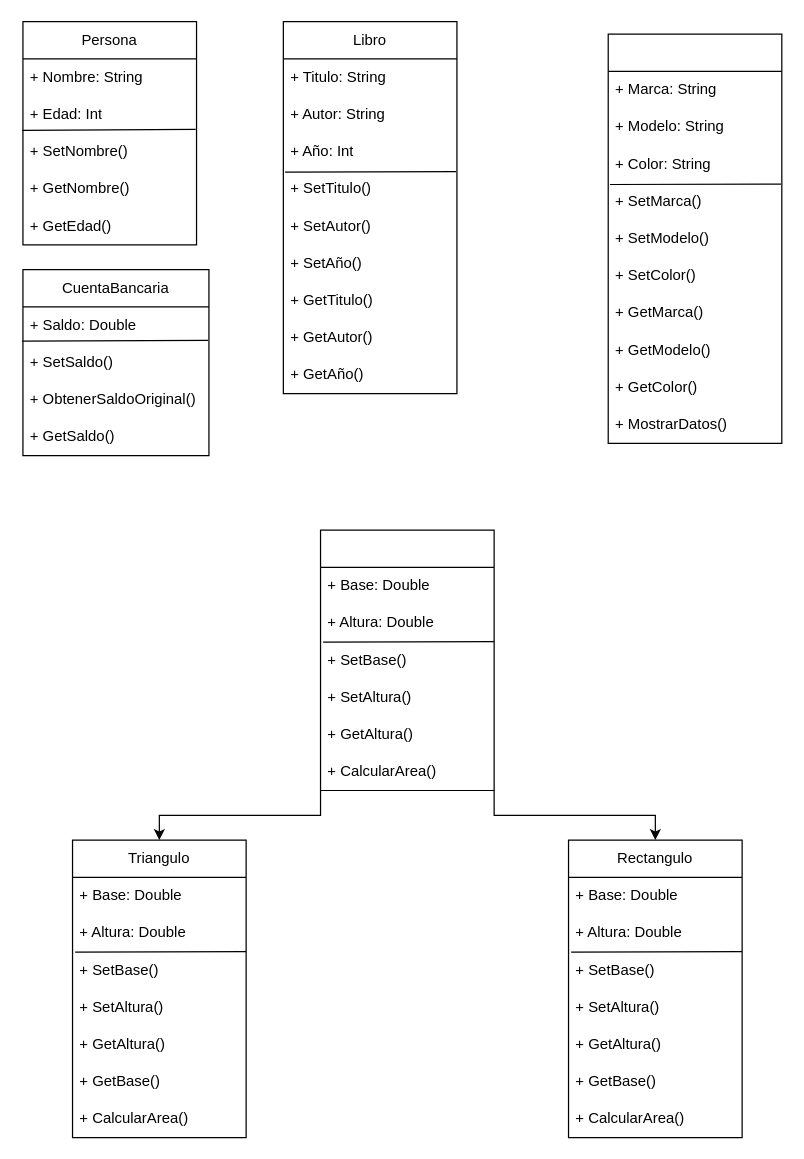
The diagram is 804 pixels wide and 1159 high, and some of its shapes have lost their labels. Each missing label, with the box of its shape:
Auto: (607, 33, 782, 443)
Figura: (319, 529, 494, 790)
